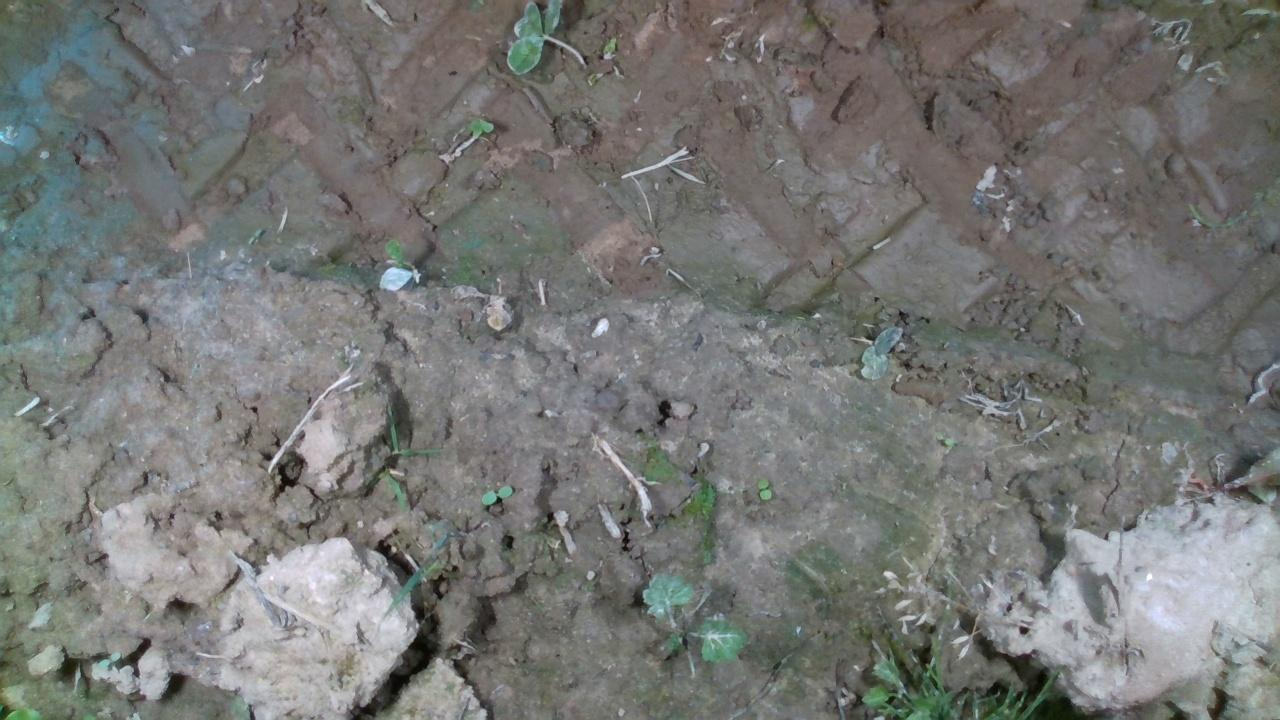weed: (755, 476, 771, 500)
